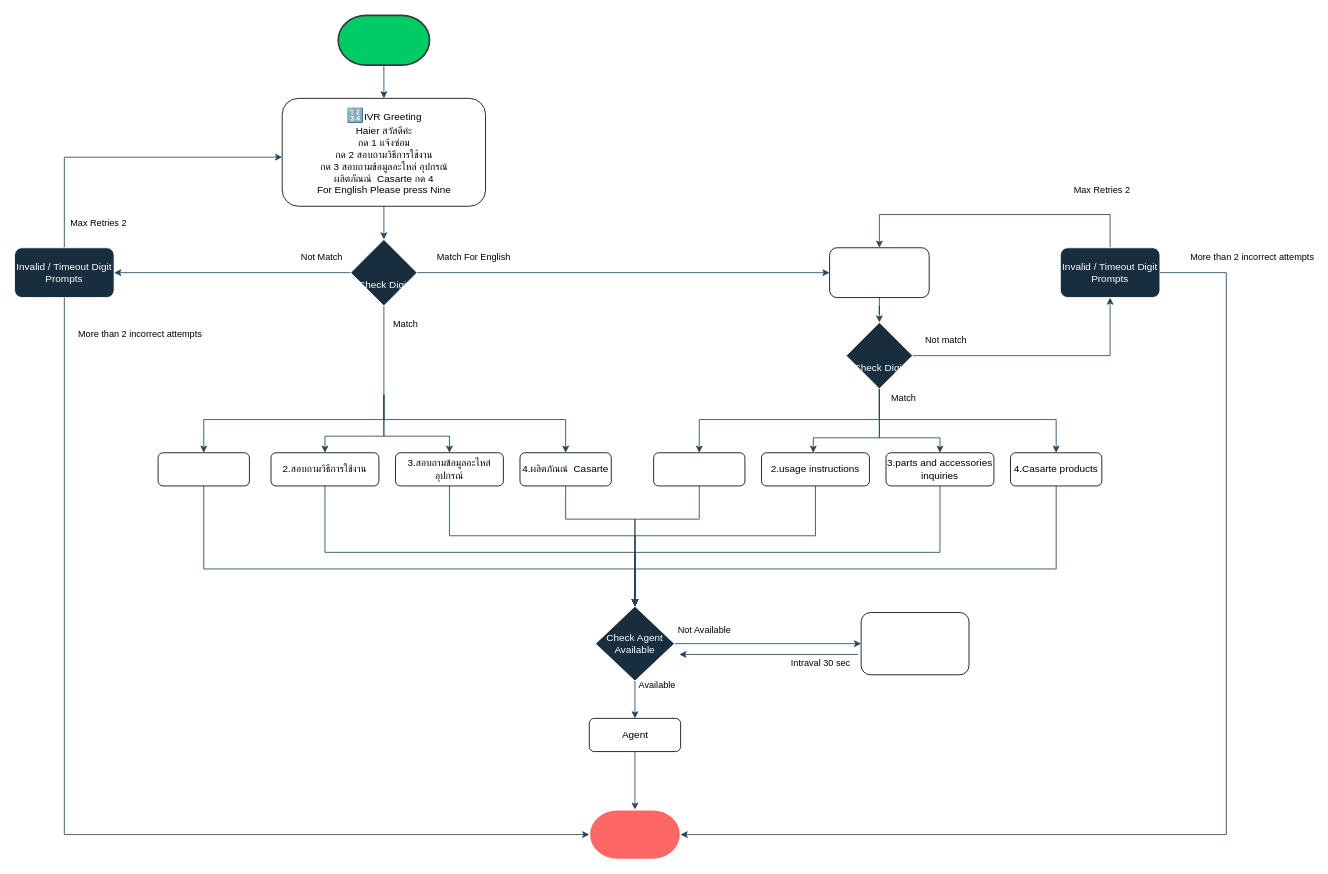
Some shapes in this 1328 by 874 pixel diagram are drawn without their labels. The box of each missing label's shape, as (x1, y1, x2, y2) in pixels:
1.repairs and service: (653, 452, 745, 486)
1.แจ้งซ่อม: (157, 452, 249, 486)
Announcement กรุณาถือสายรอสักครู่เจ้าหน้าที่ให้บริการเต็มทุกคู่สาย: (860, 612, 969, 675)
Prompt For English: (829, 247, 929, 298)
📞End Call: (588, 808, 681, 860)
📞Incoming Call: (337, 14, 430, 66)
